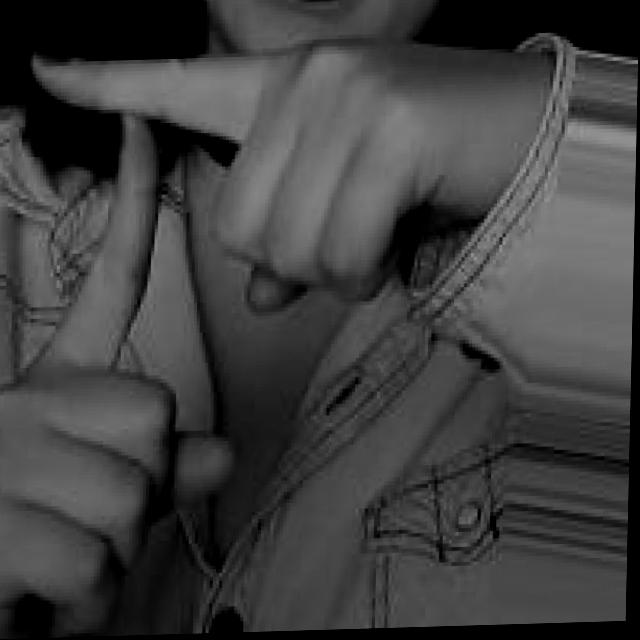T: (0, 8, 477, 640)
